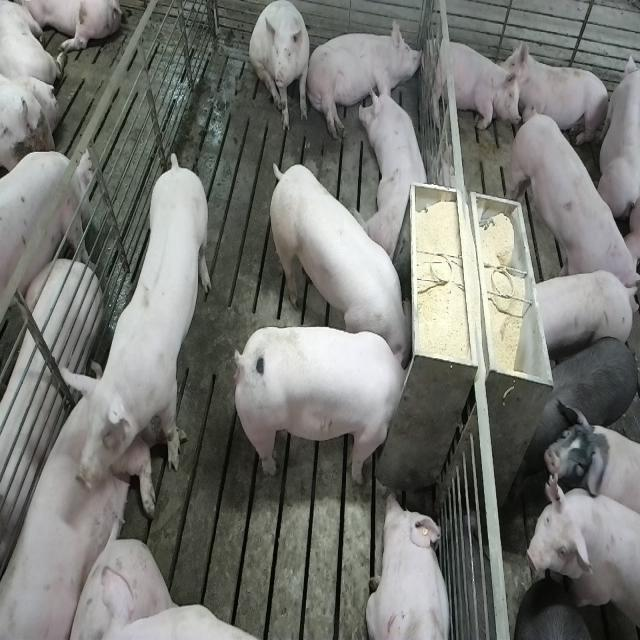Feeding: (265, 160, 412, 363), (239, 324, 417, 486)
Lateral_lying: (306, 16, 424, 142)
Sitting: (250, 2, 312, 135)
Standing: (55, 158, 211, 490), (505, 111, 635, 301), (524, 470, 638, 640), (0, 150, 94, 348), (520, 332, 637, 469), (545, 401, 640, 540), (530, 270, 634, 351), (513, 605, 638, 640)
Sternal_lying: (0, 369, 149, 634), (362, 69, 433, 258), (365, 489, 453, 640), (507, 41, 612, 154), (424, 34, 518, 134)
